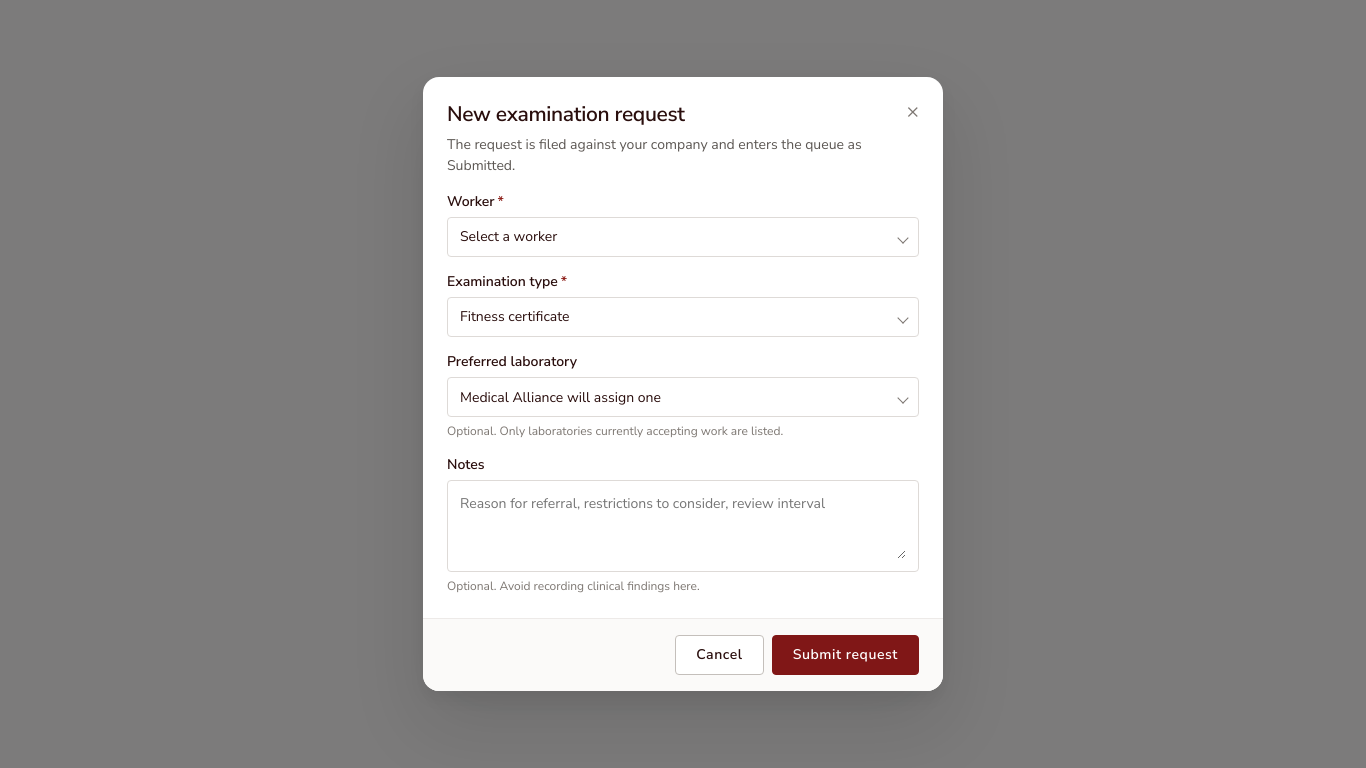
Scenario: NewRequestModal submission › surfaces a server rejection instead of closing silently
The image size is (1366, 768).
Select "A. Al-Harbi — Jazan Site 4" in the dropdown labelled "Worker*" at (683, 237), box [447,217,919,257]
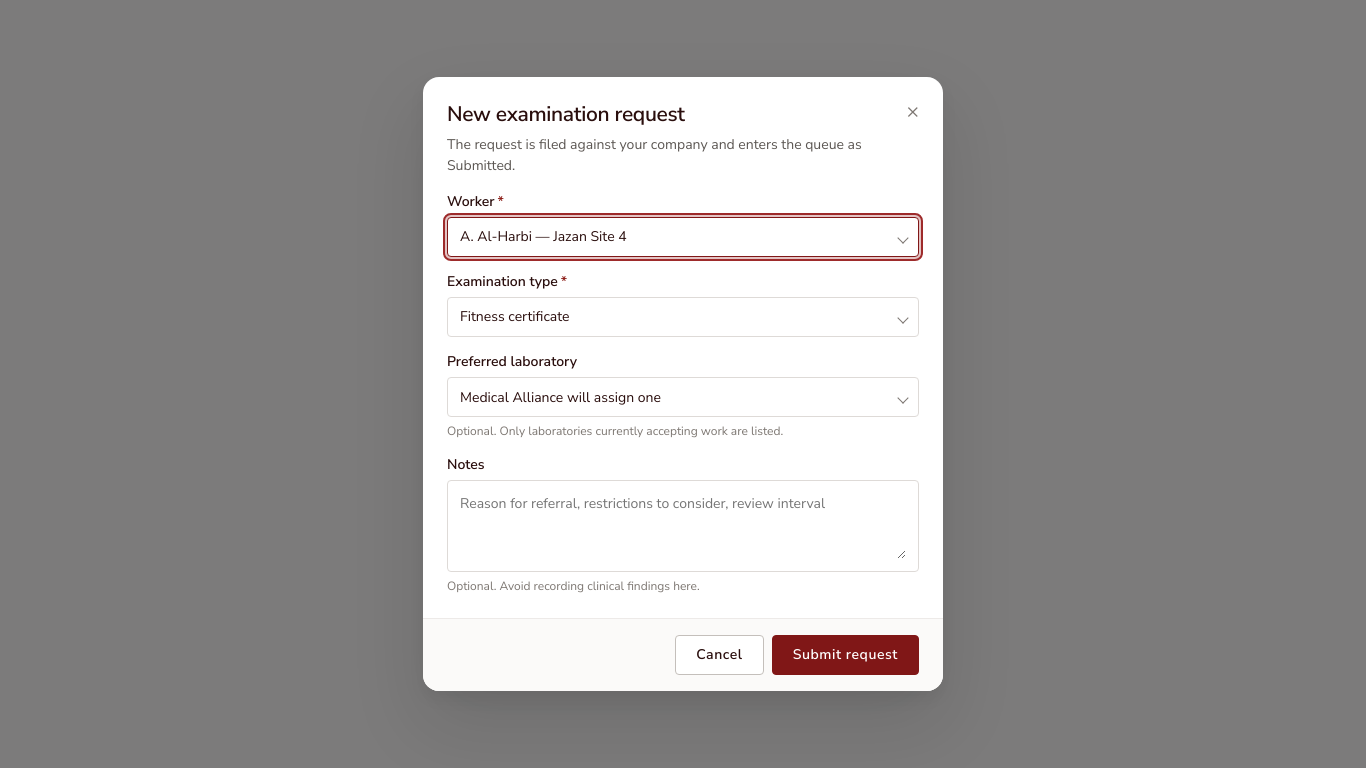
Click the button "Submit request" at (845, 655), box [772,635,919,675]
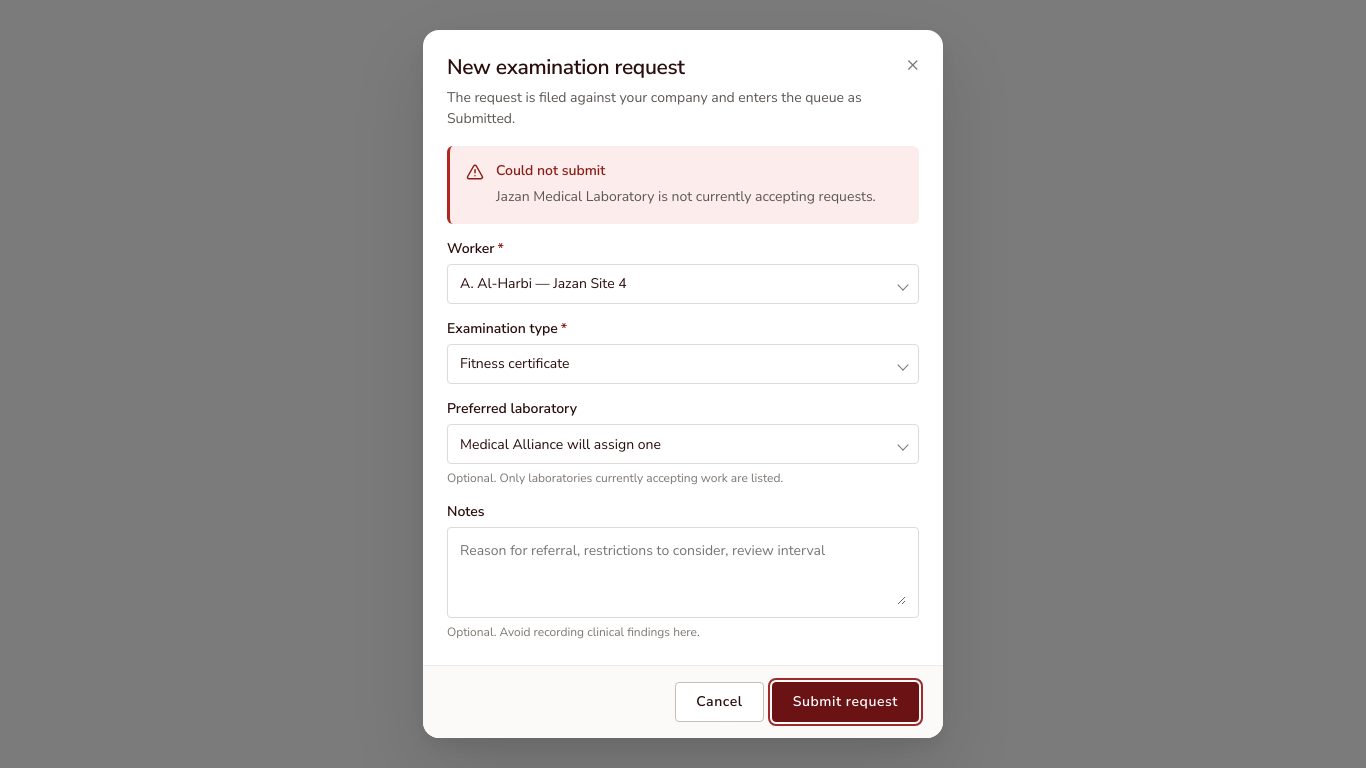
Check: the text "not currently accepting requests" is shown, box [496,187,876,206]
